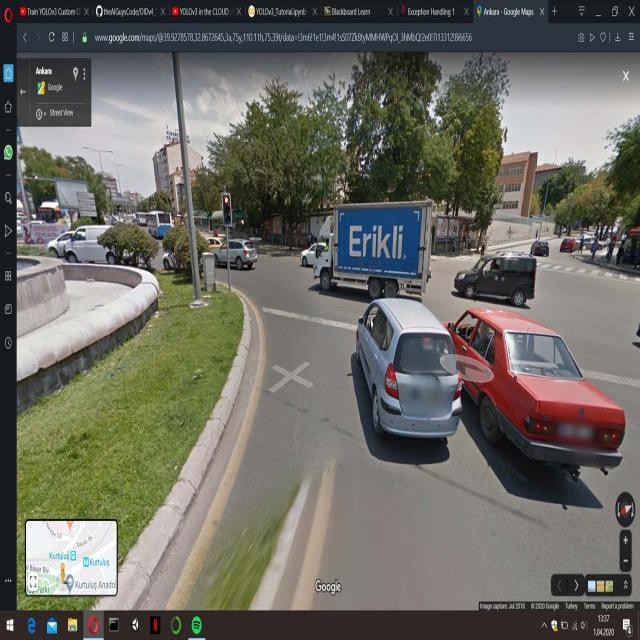kirmizi: (222, 192, 231, 224)
